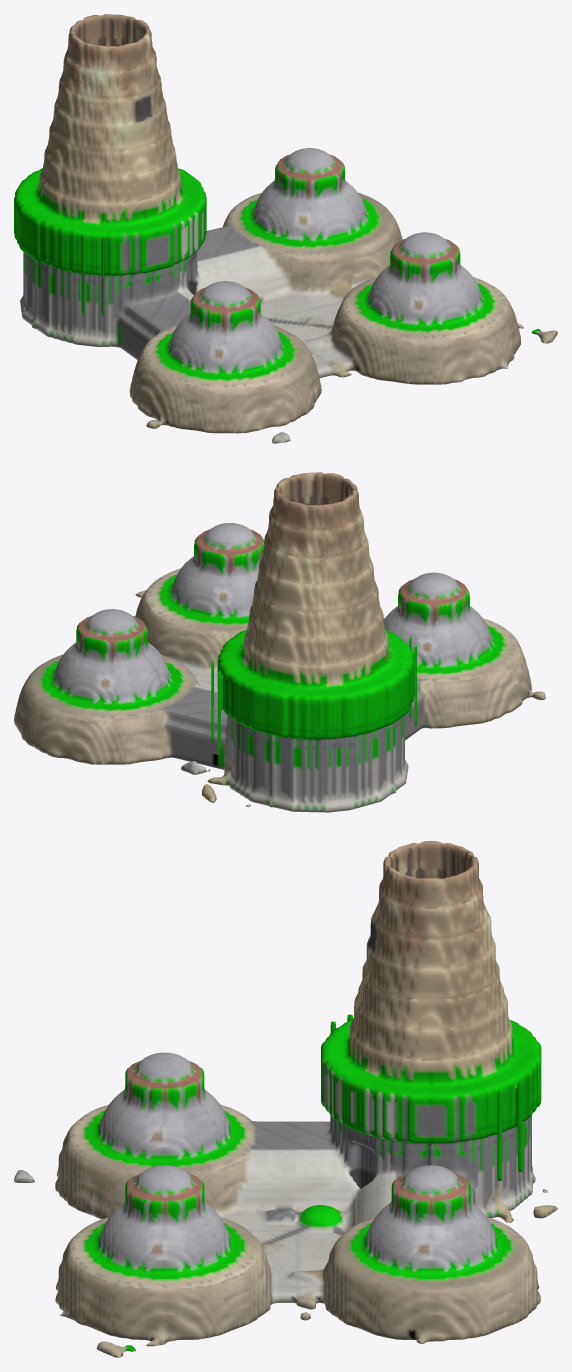
File: power-plant.glb
3 renders of one model, top to bottom at view 1: azimuth 30°, elevation 25°; view 2: azimuth 150°, elevation 25°; view 3: azimuth 270°, elevation 25°, orthographic. The views are drawn at different scales.
Visible parts, largest first — view 1: power-plant, power-plant-3-pods, power-plant-damaged; view 2: power-plant, power-plant-3-pods, power-plant-damaged; view 3: power-plant, power-plant-3-pods, power-plant-damaged.
Part boxes in pixels (x1,y1,x2,y2): power-plant: [14, 14, 520, 433]; power-plant-3-pods: [156, 232, 494, 380]; power-plant-damaged: [88, 89, 557, 443]; power-plant: [14, 472, 531, 812]; power-plant-3-pods: [159, 523, 504, 673]; power-plant-damaged: [135, 533, 545, 807]; power-plant: [55, 841, 541, 1341]; power-plant-3-pods: [90, 1052, 239, 1277]; power-plant-damaged: [14, 925, 557, 1357].
Size of the model in its own units: 2.03 by 1.34 by 2.04.
